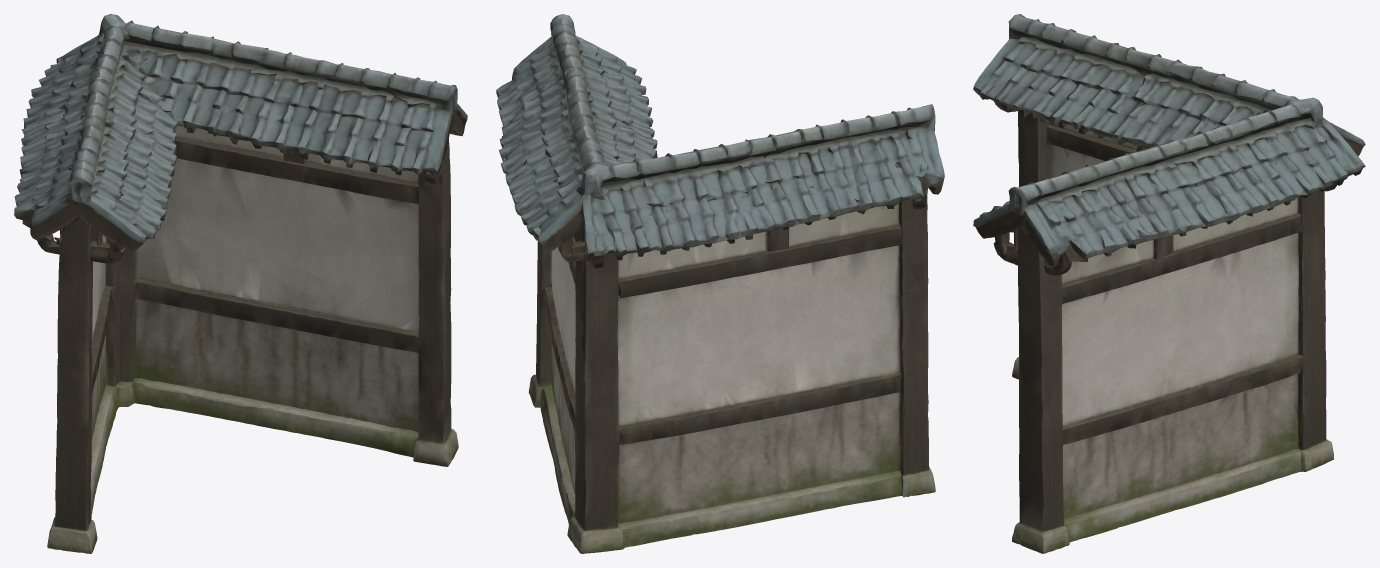
Rendered from ARCH-007.glb.
3 renders of one model, left to right at view 1: azimuth 30°, elevation 25°; view 2: azimuth 150°, elevation 25°; view 3: azimuth 270°, elevation 25°, orthographic. The views are drawn at different scales.
Visible parts, largest first — view 1: world; view 2: world; view 3: world.
Boxes of the visible parts, left/top/right/bottom form: world: left=14, top=14, right=467, bottom=553; world: left=496, top=14, right=944, bottom=553; world: left=973, top=14, right=1365, bottom=553.
Bounding box in the file's own units: 3 × 2.51 × 2.47.
1 material, 1 textured.
